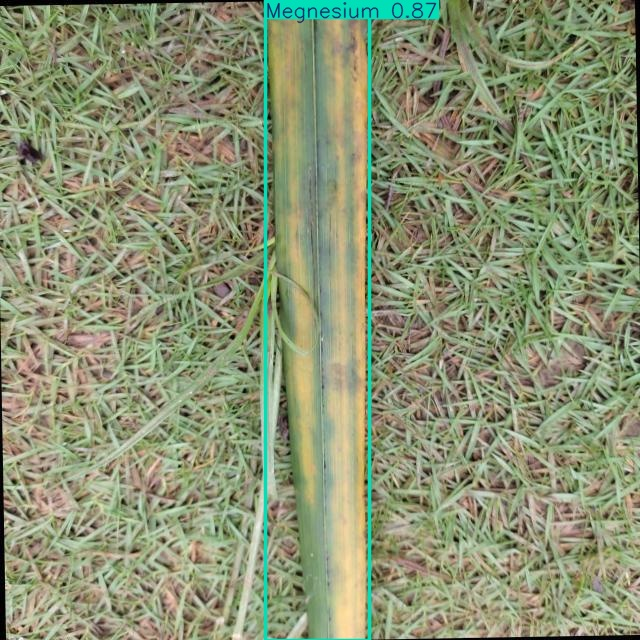Megnesium: (266, 1, 369, 640)
